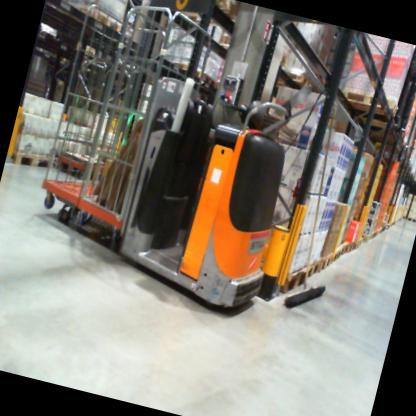pallet: (160, 0, 247, 38), (335, 80, 403, 123), (274, 55, 332, 95), (62, 2, 127, 34), (11, 145, 59, 178), (276, 256, 312, 297), (60, 28, 100, 60), (303, 252, 325, 281), (313, 248, 335, 277), (327, 242, 343, 266), (346, 237, 361, 253), (336, 239, 349, 257), (343, 237, 356, 255)
pallet_truck: (99, 47, 321, 335)
